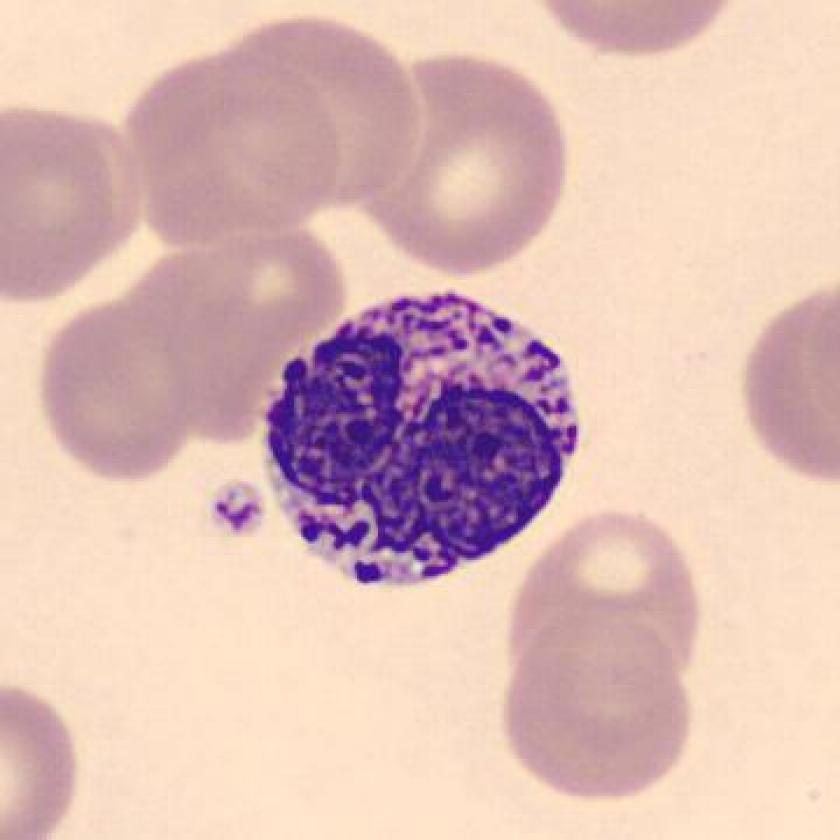basophil: (246, 283, 591, 596)
